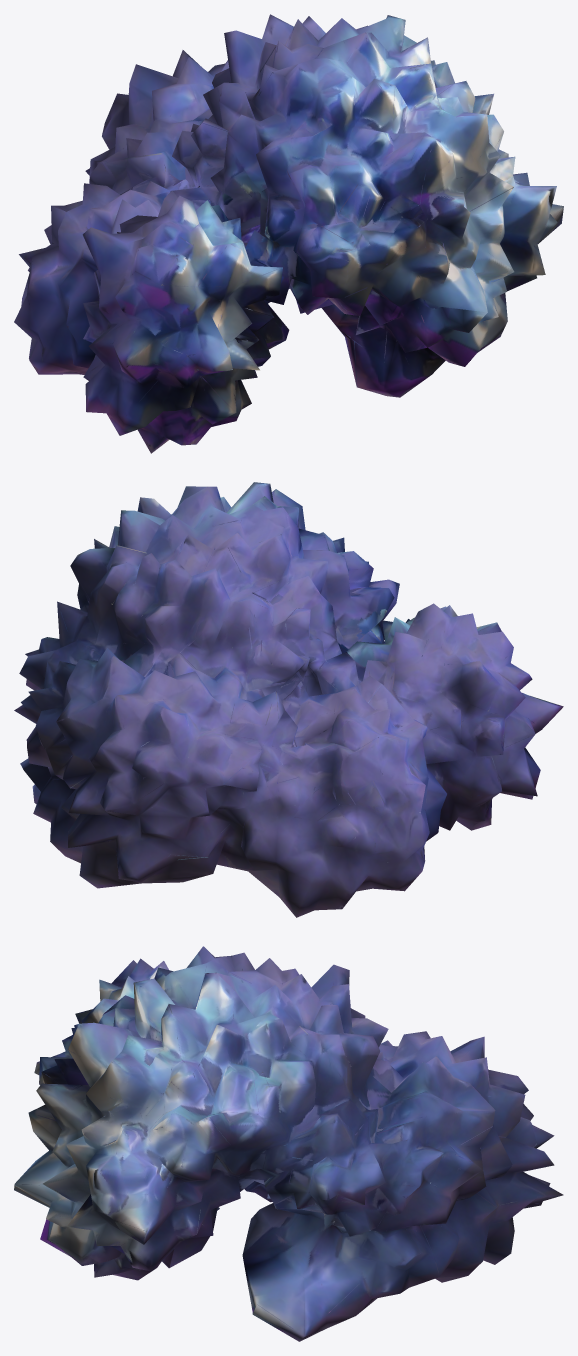
The model's file is Safe Zone Bush 1.glb.
3 renders of one model, top to bottom at view 1: azimuth 30°, elevation 25°; view 2: azimuth 150°, elevation 25°; view 3: azimuth 270°, elevation 25°, orthographic. The views are drawn at different scales.
Visible parts, largest first — view 1: Mesh_0.002; view 2: Mesh_0.002; view 3: Mesh_0.002.
Part boxes in pixels (x1,y1,x2,y2): Mesh_0.002: (14, 14, 563, 453); Mesh_0.002: (14, 482, 563, 917); Mesh_0.002: (14, 946, 563, 1341).
Bounding box in the file's own units: 1.49 × 1 × 1.53.
Materials: 1 (1 with a texture image).
